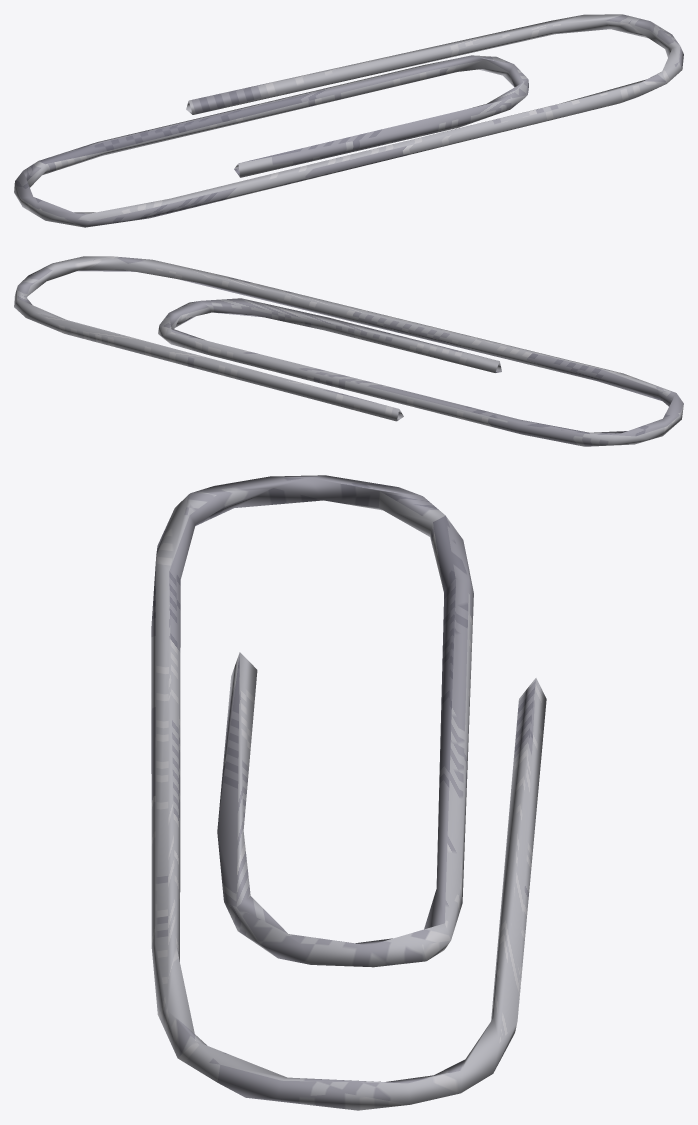
Rendered from Graffetta.fbx.
3 renders of one model, top to bottom at view 1: azimuth 30°, elevation 25°; view 2: azimuth 150°, elevation 25°; view 3: azimuth 270°, elevation 25°, orthographic. The views are drawn at different scales.
Parts seen in each view (by area): view 1: NurbsPath.001; view 2: NurbsPath.001; view 3: NurbsPath.001.
Boxes of the visible parts, x1=… form: NurbsPath.001: x1=14, y1=14, x2=683, y2=227; NurbsPath.001: x1=14, y1=256, x2=683, y2=446; NurbsPath.001: x1=151, y1=475, x2=546, y2=1110.
Size of the model in its own units: 0.0713 by 0.0015 by 0.0193.
1 material, 1 textured.
